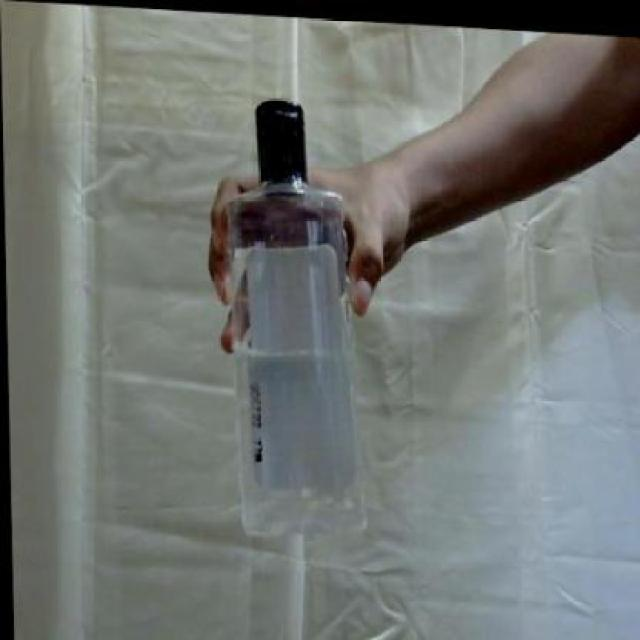Plastic: (229, 96, 371, 560)
